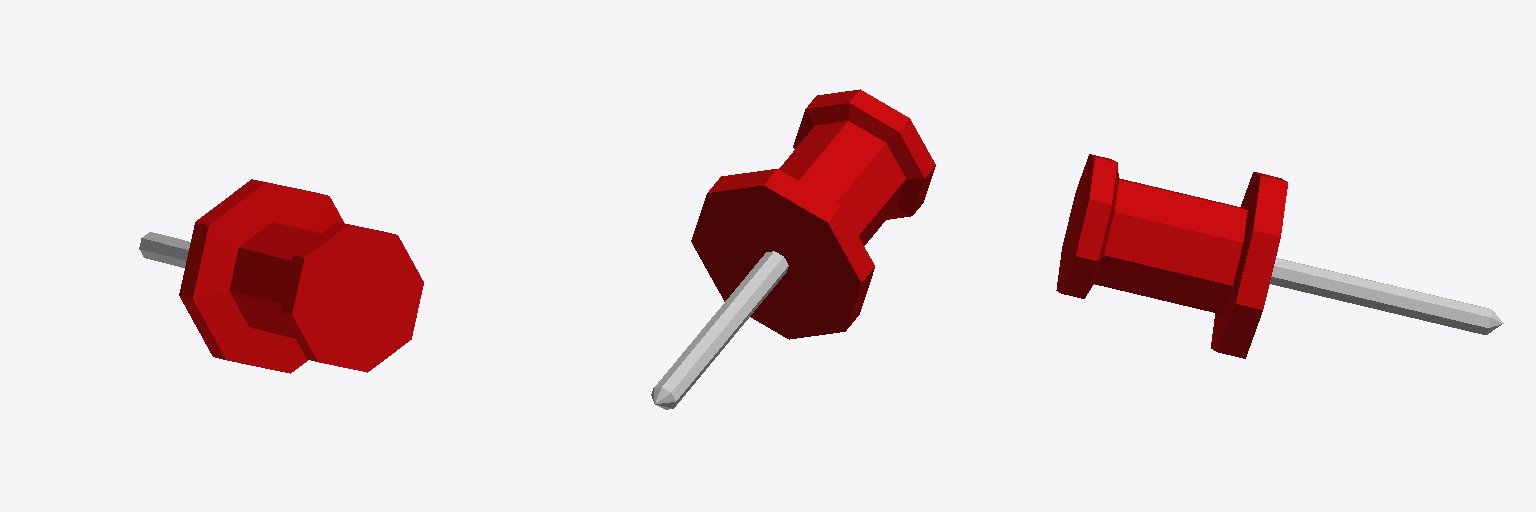
The model's file is Pin.obj.
3 views of the same model, side by side, from view 1: azimuth 30°, elevation 25°; view 2: azimuth 150°, elevation 25°; view 3: azimuth 270°, elevation 25° (orthographic).
Visible parts, largest first — view 1: Cylinder_Cylinder.001; view 2: Cylinder_Cylinder.001; view 3: Cylinder_Cylinder.001.
Part boxes in pixels (x1,y1,x2,y2): Cylinder_Cylinder.001: (139, 179, 423, 373); Cylinder_Cylinder.001: (651, 89, 935, 409); Cylinder_Cylinder.001: (1056, 154, 1503, 358).
Size of the model in its own units: 0.0425 by 0.0471 by 0.0965.